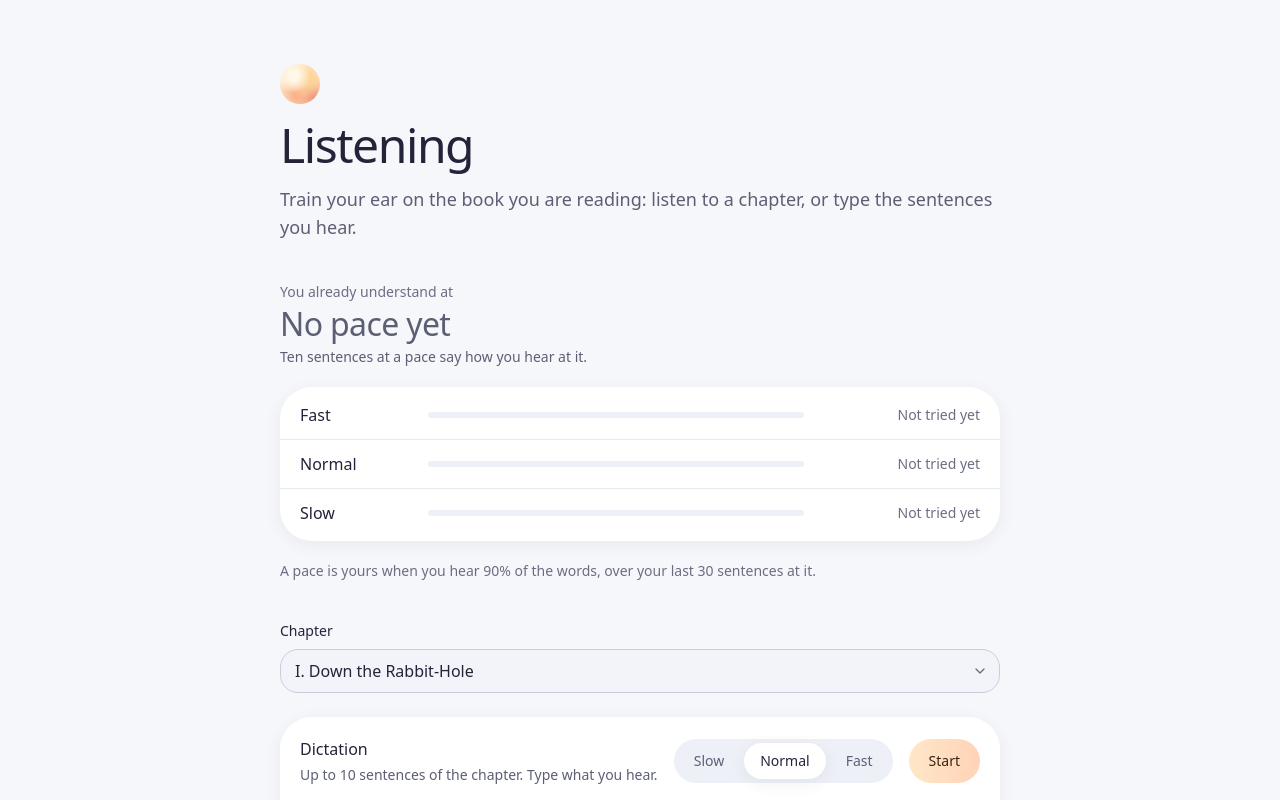
Test: listening › one left with nothing typed is not kept
Expected: the heading "Listening" is shown, [280, 112, 473, 177]
Expected: the dropdown labelled "Chapter" is shown, [280, 649, 1000, 693]
Click the button "Start" at (944, 761), box [909, 739, 980, 783]
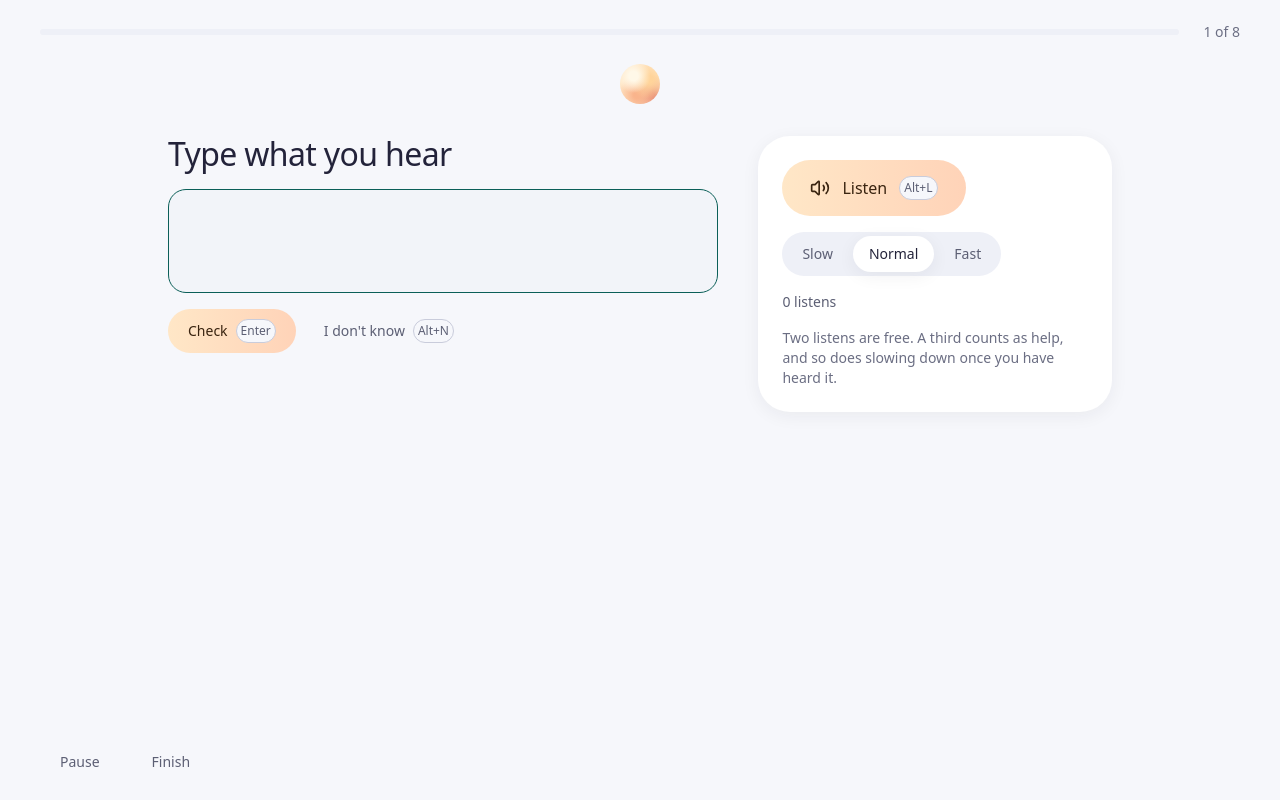
Now the text box named "Type what you hear" is shown, box [168, 189, 718, 293]
Click the button "Pause" at (80, 762), box [40, 740, 120, 784]
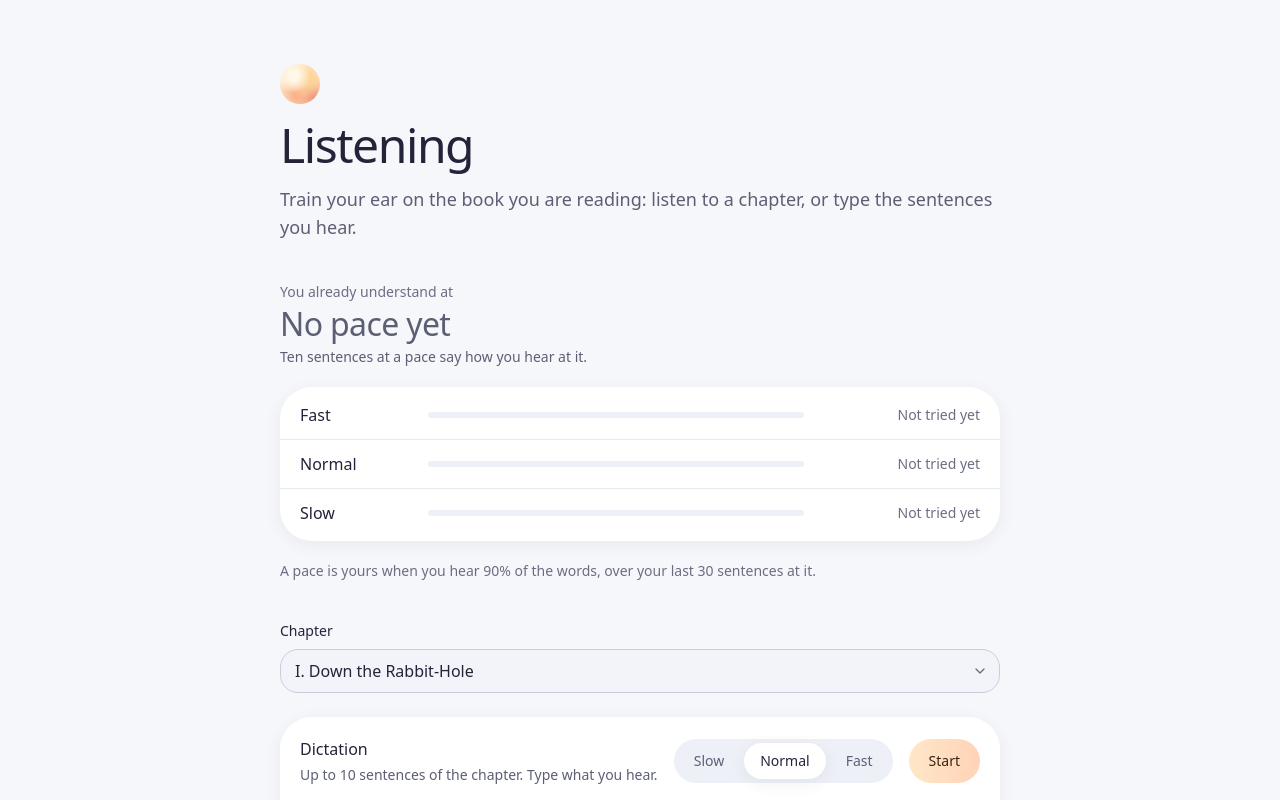
Now the heading "Listening" is shown, box [280, 112, 473, 177]
Now the dropdown labelled "Chapter" is shown, box [280, 649, 1000, 693]
